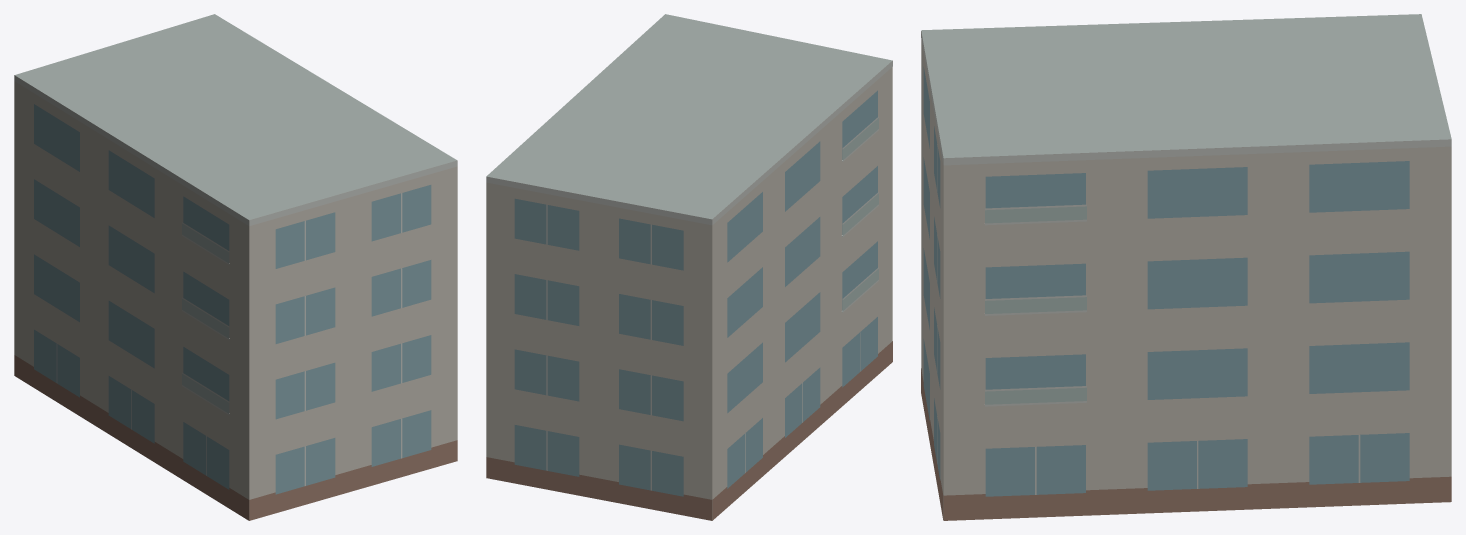
The model's file is survey-upis-32662735.glb.
The picture shows the model from 3 angles, left to right: view 1: azimuth 30°, elevation 25°; view 2: azimuth 150°, elevation 25°; view 3: azimuth 270°, elevation 25°; orthographic projection. The views are drawn at different scales.
Parts seen in each view (by area): view 1: survey-upis-32662735.tmp; view 2: survey-upis-32662735.tmp; view 3: survey-upis-32662735.tmp.
Boxes of the visible parts, x1,y1,x2,y2 form: survey-upis-32662735.tmp: (14,14,457,520); survey-upis-32662735.tmp: (486,14,892,520); survey-upis-32662735.tmp: (921,14,1451,520).
Size of the model in its own units: 10.41 by 12.2 by 16.19.
